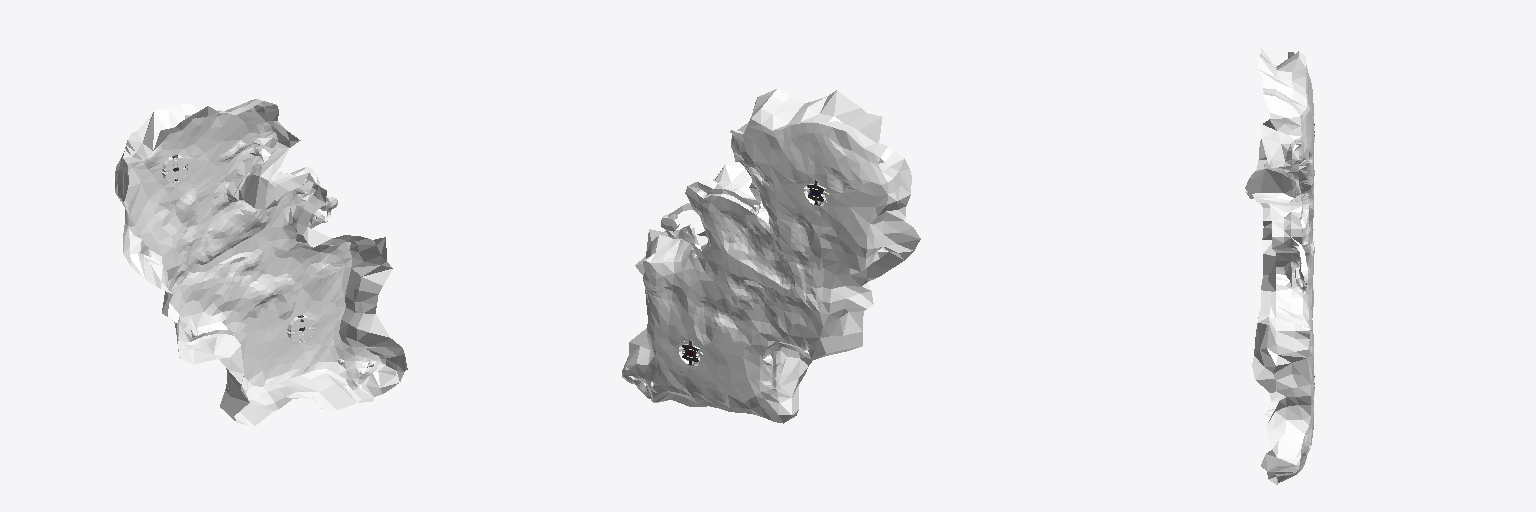
3 renders of one model, left to right at view 1: azimuth 30°, elevation 25°; view 2: azimuth 150°, elevation 25°; view 3: azimuth 270°, elevation 25°, orthographic.
Visible parts, largest first — view 1: bloodgulch; view 2: bloodgulch; view 3: bloodgulch.
Boxes of the visible parts, <box> form: bloodgulch: <box>115,99,407,425</box>; bloodgulch: <box>622,89,920,423</box>; bloodgulch: <box>1245,48,1314,484</box>.
Size of the model in its own units: 12600 by 14516 by 2658.
Materials: 17 (4 with a texture image).